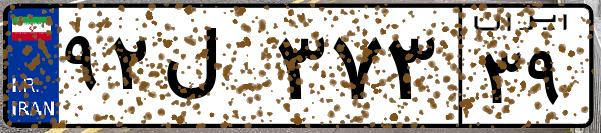2: (110, 28, 158, 98)
3: (270, 28, 330, 110), (385, 28, 445, 110), (475, 38, 525, 113)
7: (330, 28, 385, 110)
9: (57, 26, 110, 100), (525, 38, 570, 115)
ل: (158, 20, 270, 120)
